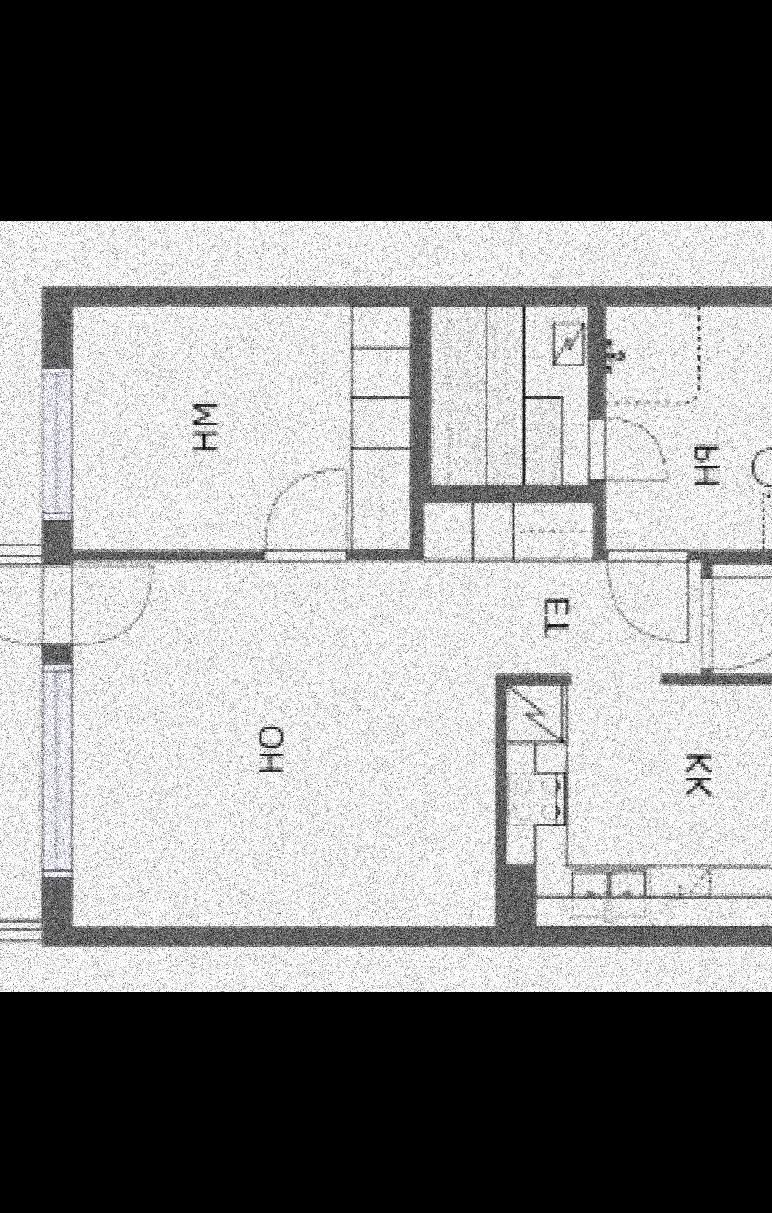door: (0, 561, 150, 662), (592, 548, 690, 648), (264, 462, 347, 570), (700, 565, 772, 669), (584, 416, 664, 482)
window: (36, 664, 72, 872), (36, 370, 75, 522)
zone: (69, 563, 772, 925), (72, 302, 416, 558), (600, 303, 772, 548), (430, 310, 582, 494)
